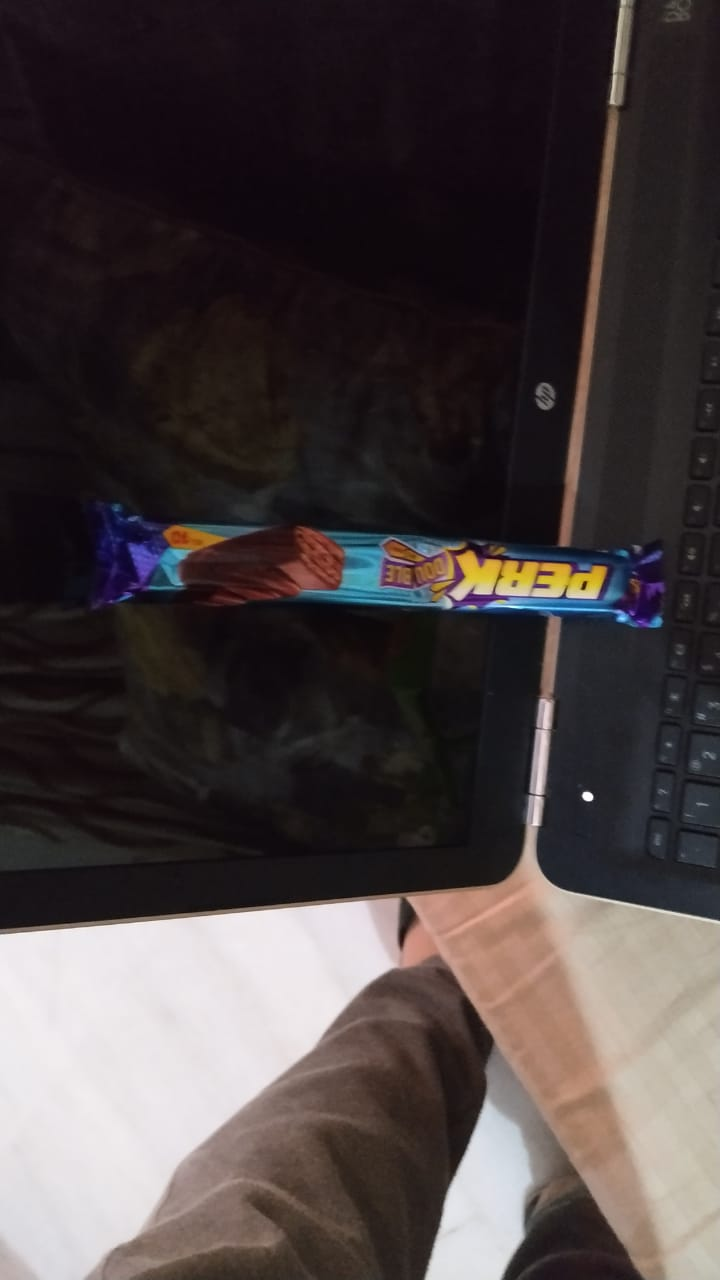perk: (72, 486, 674, 633)
